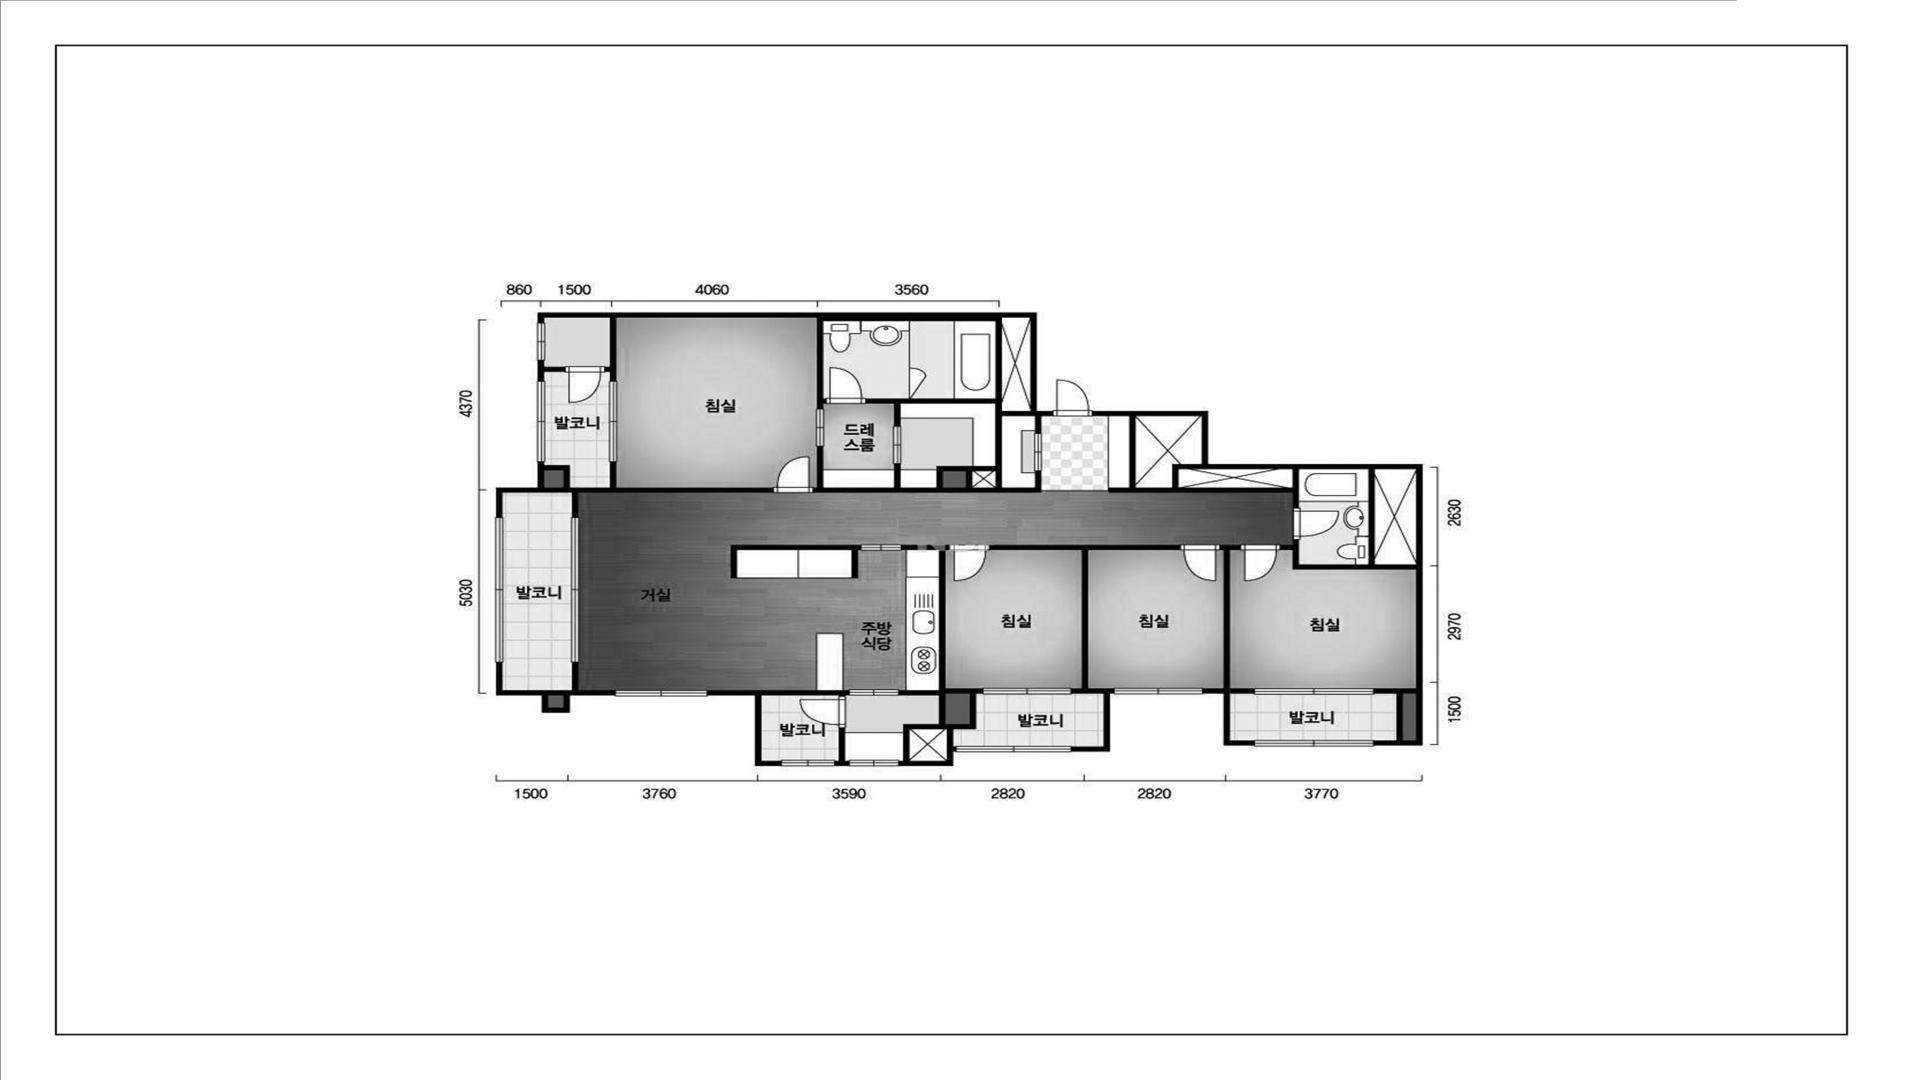door: (1292, 508, 1340, 539), (798, 696, 845, 728), (773, 456, 812, 493), (1180, 545, 1220, 582), (1241, 545, 1280, 582), (827, 367, 865, 404), (566, 367, 604, 404), (951, 545, 989, 582), (1054, 380, 1092, 417), (909, 368, 927, 398), (894, 426, 901, 464), (1035, 434, 1042, 471), (816, 409, 823, 446), (861, 545, 901, 550)
wall: (1092, 411, 1423, 746), (538, 313, 1054, 415), (812, 320, 1042, 493), (545, 462, 774, 518), (901, 545, 951, 724), (707, 691, 782, 766), (1108, 464, 1292, 493), (731, 545, 861, 579), (1279, 539, 1416, 570), (496, 662, 616, 696), (1203, 688, 1254, 746), (1071, 688, 1114, 752), (496, 462, 545, 517), (903, 724, 976, 761), (1374, 688, 1416, 741), (945, 688, 982, 724), (898, 746, 956, 766), (989, 545, 1180, 550), (816, 322, 827, 409), (1224, 550, 1230, 688), (1081, 550, 1088, 688), (604, 318, 616, 381), (761, 690, 849, 696), (1369, 469, 1374, 564), (1129, 417, 1135, 488), (1292, 469, 1299, 508), (571, 662, 579, 691), (839, 728, 845, 761), (899, 690, 939, 695), (538, 360, 545, 381), (1230, 688, 1254, 694), (1035, 415, 1042, 434), (1220, 545, 1241, 550), (545, 367, 566, 372), (835, 761, 849, 766), (909, 320, 910, 368)
window: (571, 518, 579, 662), (496, 517, 502, 662), (1254, 741, 1374, 746), (1254, 688, 1374, 694), (956, 746, 1071, 752), (538, 381, 545, 462), (609, 381, 616, 462), (616, 691, 707, 696), (1114, 688, 1203, 694), (982, 688, 1071, 694), (782, 761, 835, 766), (849, 690, 899, 695), (849, 761, 898, 766), (538, 323, 545, 360)
